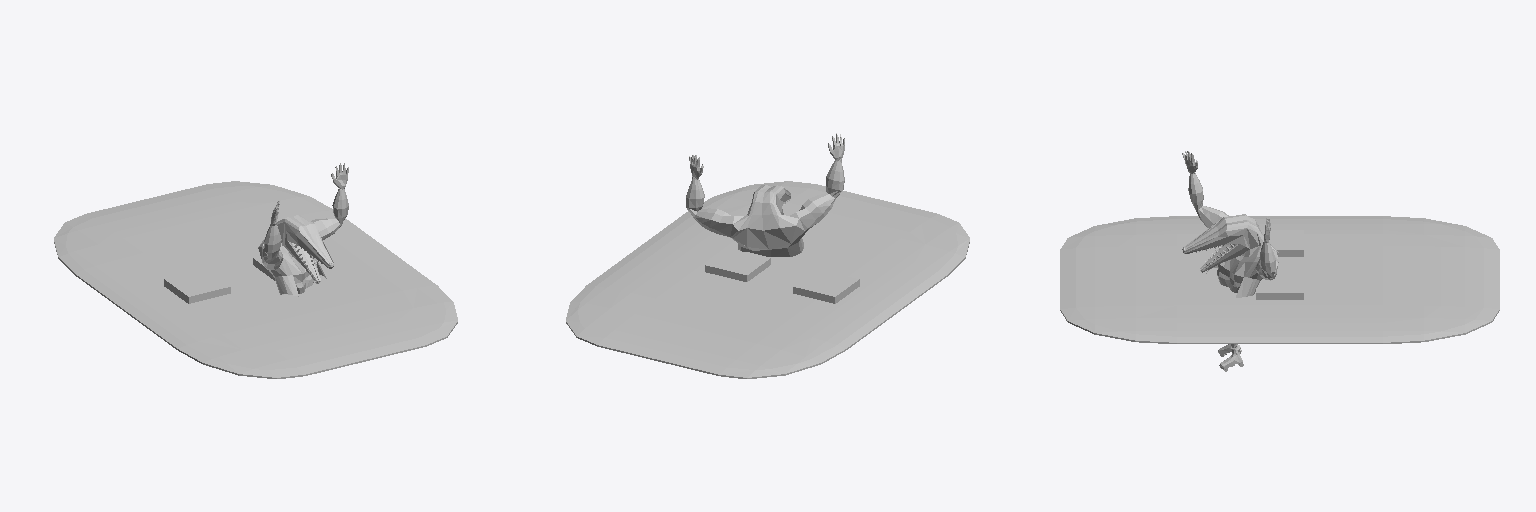
The model's file is cocodrilaBonesSelect_000023.obj.
3 renders of one model, left to right at view 1: azimuth 30°, elevation 25°; view 2: azimuth 150°, elevation 25°; view 3: azimuth 270°, elevation 25°, orthographic.
Visible parts, largest first — view 1: Mball, Crocodile.002_Cylinder.002, Cube; view 2: Mball, Crocodile.002_Cylinder.002, Cube, Cube.001; view 3: Mball, Crocodile.002_Cylinder.002, Cube.001, Cube.
Boxes of the visible parts, x1=… form: Mball: x1=54, y1=181, x2=457, y2=378; Crocodile.002_Cylinder.002: x1=258, y1=163, x2=348, y2=296; Cube: x1=164, y1=269, x2=230, y2=303; Mball: x1=566, y1=181, x2=969, y2=378; Crocodile.002_Cylinder.002: x1=686, y1=133, x2=844, y2=256; Cube: x1=793, y1=269, x2=859, y2=303; Cube.001: x1=705, y1=248, x2=770, y2=281; Mball: x1=1060, y1=216, x2=1499, y2=343; Crocodile.002_Cylinder.002: x1=1182, y1=151, x2=1278, y2=371; Cube.001: x1=1256, y1=273, x2=1303, y2=299; Cube: x1=1261, y1=230, x2=1303, y2=256.
Bounding box in the file's own units: 12.42 × 8.65 × 18.18.